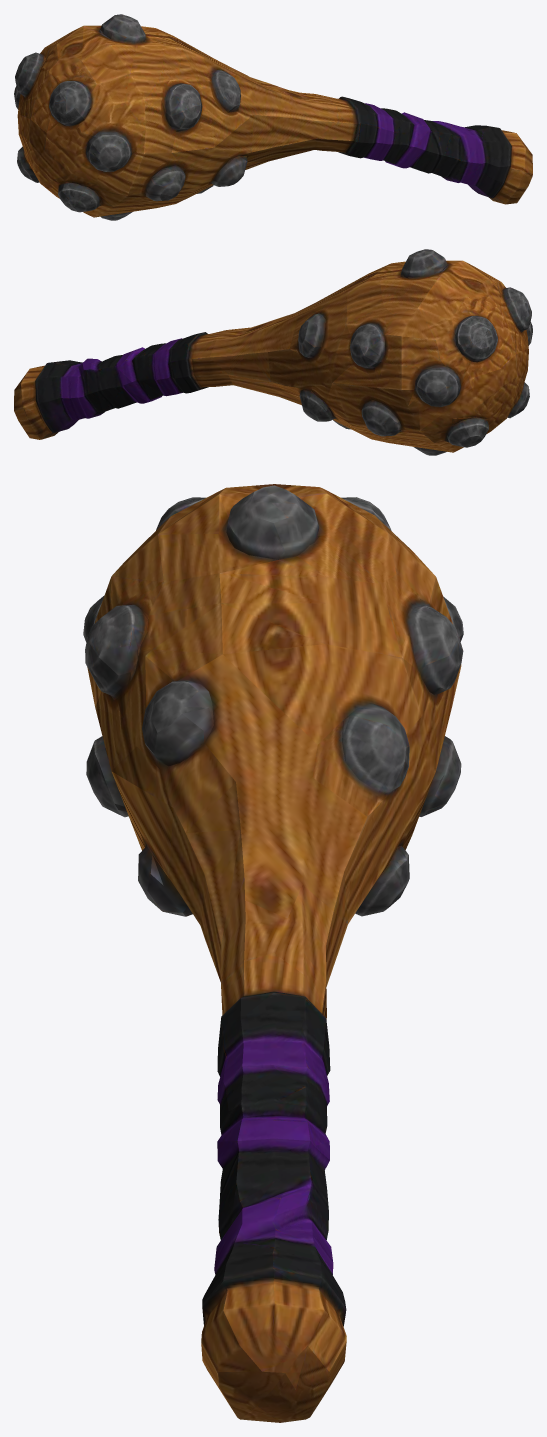
The model's file is bandit-club.glb.
The picture shows the model from 3 angles, top to bottom: view 1: azimuth 30°, elevation 25°; view 2: azimuth 150°, elevation 25°; view 3: azimuth 270°, elevation 25°; orthographic projection. The views are drawn at different scales.
Parts seen in each view (by area): view 1: output_unwrapped; view 2: output_unwrapped; view 3: output_unwrapped.
Boxes of the visible parts, box(x1,y1,x2,y2) form: output_unwrapped: box(14, 14, 532, 220); output_unwrapped: box(14, 249, 532, 455); output_unwrapped: box(83, 484, 463, 1422).
Bounding box in the file's own units: 1.88 × 0.9977 × 0.6215.
Materials: 1 (1 with a texture image).
